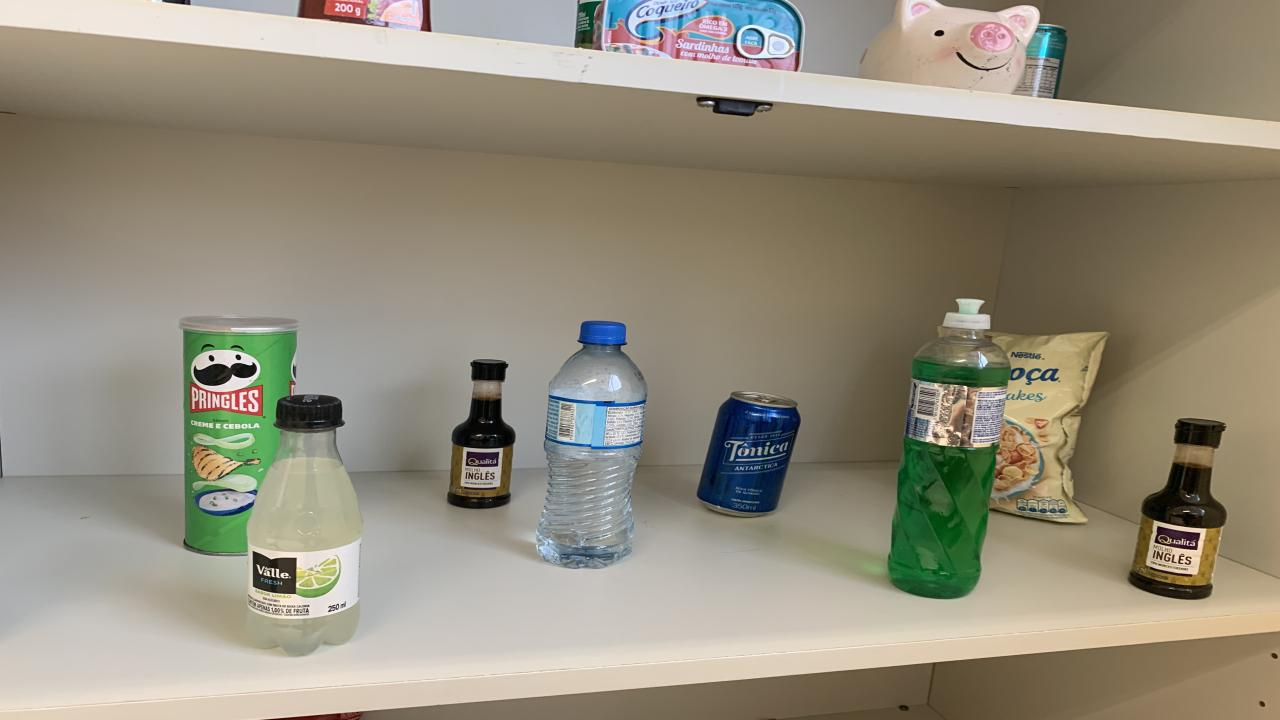Detergent-Cleanup_Items: (888, 300, 1010, 598)
English_Sauce-Pantry_Items: (1128, 441, 1228, 598), (448, 360, 515, 508), (1178, 420, 1225, 442)
Flakes-Snacks: (988, 332, 1108, 523)
Ketchup-Pantry_Items: (300, 0, 430, 32)
Pig_Safe-Miscellaneous: (858, 0, 1040, 94)
Pringles-Snacks: (180, 315, 298, 555)
Soda-Drinks: (248, 394, 362, 656)
Tea-Drinks: (1015, 24, 1068, 98)
Tonic-Drinks: (698, 392, 800, 516)
Tuna_Can-Pantry_Items: (578, 0, 805, 71)
Water_Bottle-Drinks: (538, 322, 648, 568)
